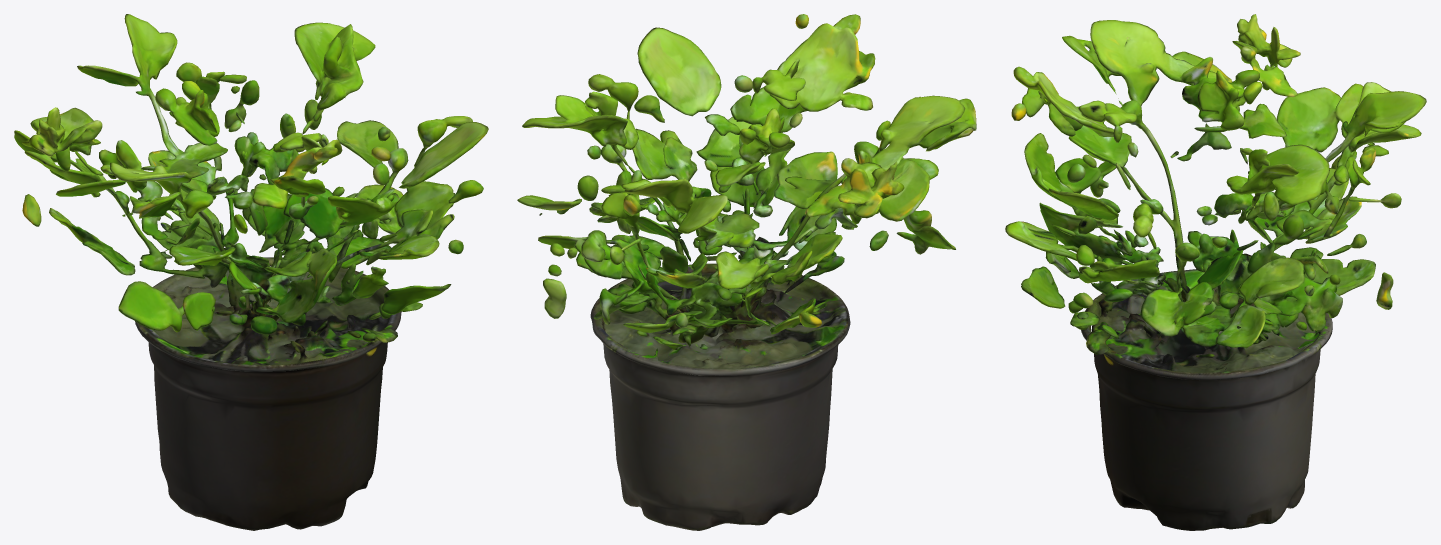
Rendered from shrub0068.gltf.
3 views of the same model, side by side, from view 1: azimuth 30°, elevation 25°; view 2: azimuth 150°, elevation 25°; view 3: azimuth 270°, elevation 25° (orthographic). The views are drawn at different scales.
Visible parts, largest first — view 1: Mesh_0.042; view 2: Mesh_0.042; view 3: Mesh_0.042.
Boxes of the visible parts, x1,y1,x2,y2 form: Mesh_0.042: (14, 14, 488, 530); Mesh_0.042: (517, 14, 976, 530); Mesh_0.042: (1005, 14, 1426, 530).
Bounding box in the file's own units: 1.86 × 1.99 × 1.86.
1 material, 1 textured.
